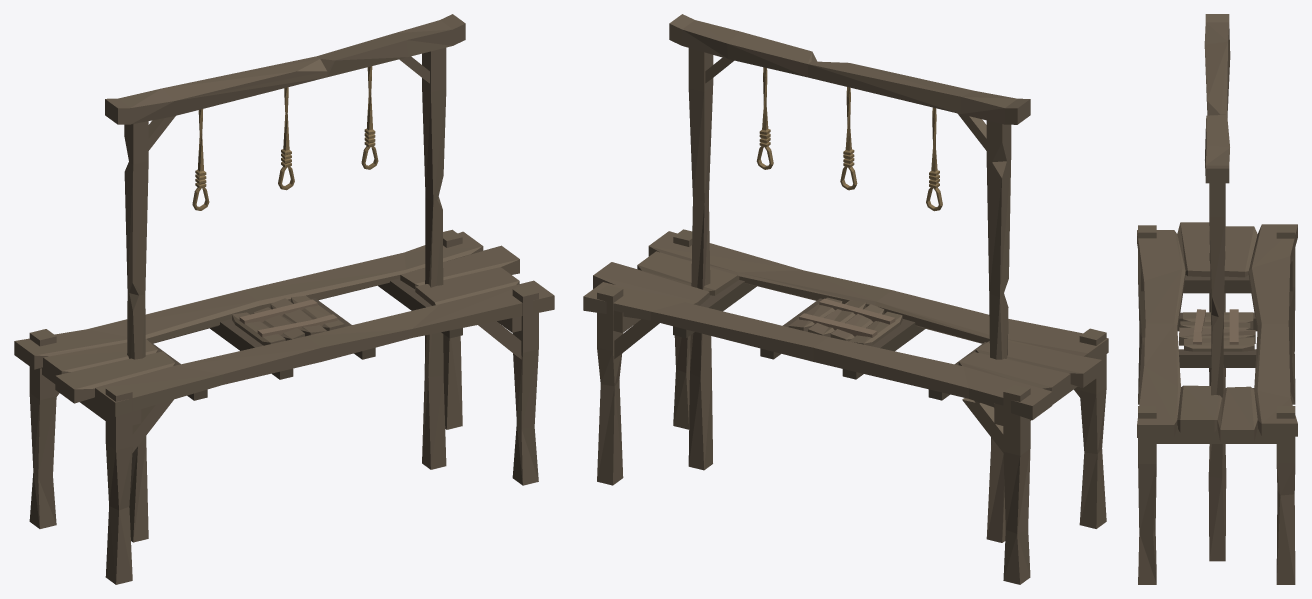
The model's file is SM_Prop_Gallows_Trapdoor_02.glb.
3 views of the same model, side by side, from view 1: azimuth 30°, elevation 25°; view 2: azimuth 150°, elevation 25°; view 3: azimuth 270°, elevation 25° (orthographic). The views are drawn at different scales.
Visible parts, largest first — view 1: SM_Prop_Gallows_Trapdoor_02_part00, SM_Prop_Gallows_Trapdoor_02_part01; view 2: SM_Prop_Gallows_Trapdoor_02_part00, SM_Prop_Gallows_Trapdoor_02_part01; view 3: SM_Prop_Gallows_Trapdoor_02_part00, SM_Prop_Gallows_Trapdoor_02_part01.
Part boxes in pixels (x1=…): SM_Prop_Gallows_Trapdoor_02_part00: x1=14, y1=14, x2=554, y2=584; SM_Prop_Gallows_Trapdoor_02_part01: x1=232, y1=295, x2=344, y2=345; SM_Prop_Gallows_Trapdoor_02_part00: x1=583, y1=14, x2=1108, y2=584; SM_Prop_Gallows_Trapdoor_02_part01: x1=788, y1=297, x2=902, y2=345; SM_Prop_Gallows_Trapdoor_02_part00: x1=1137, y1=14, x2=1297, y2=584; SM_Prop_Gallows_Trapdoor_02_part01: x1=1179, y1=309, x2=1255, y2=351.
Bounding box in the file's own units: 6.04 × 5.43 × 1.98.
1 material, 1 textured.
